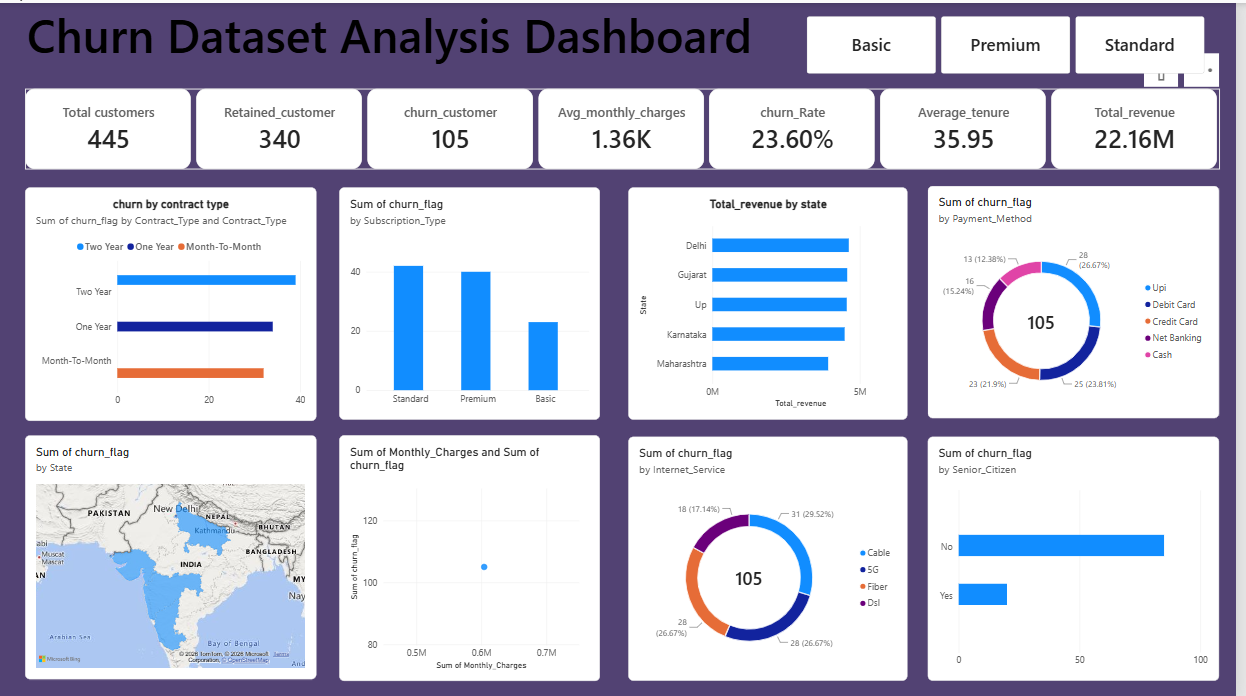

What the dashboard file says about the page in this screenshot:
{"tool":"powerbi","page":{"name":"Page 1","canvas":[1920,1080],"ordinal":0},"visuals":[{"type":"cardVisual","fields":{"Data":["Measure.Total customers","Measure.Retained_customer","Measure.churn_customer","Measure.Average_monthly_charges","Measure.churn_Rate","Measure.Average_tenure","Measure.Total_revenue"]},"box":[42.3,131.7,1851.2,125.7],"z":0},{"type":"textbox","box":[23.5,0,1170.8,131.7],"z":1000},{"type":"clusteredBarChart","title":"churn by contract type","fields":{"Series":["clean_churn_data.Contract_Type"],"Y":["Sum(clean_churn_data.churn_flag)"],"Category":["clean_churn_data.Contract_Type"]},"box":[42.3,286.8,451.4,362],"z":2000},{"type":"columnChart","fields":{"Category":["clean_churn_data.Subscription_Type"],"Y":["Sum(clean_churn_data.churn_flag)"]},"box":[531.3,286.8,404.3,359.7],"z":3000},{"type":"filledMap","fields":{"Category":["clean_churn_data.State"]},"box":[42.3,670,451.4,378.5],"z":3001},{"type":"scatterChart","fields":{"Y":["Sum(clean_churn_data.churn_flag)"],"X":["Sum(clean_churn_data.Monthly_Charges)"]},"box":[531.3,670,404.4,380.9],"z":3002},{"type":"barChart","title":"Total_revenue by state","fields":{"Category":["clean_churn_data.State"],"Y":["Measure.Total_revenue"]},"box":[978,286.8,432.6,359.7],"z":3003},{"type":"donutChart","fields":{"Category":["clean_churn_data.Internet_Service"],"Y":["Sum(clean_churn_data.churn_flag)"]},"box":[978,672.4,432.6,378.5],"z":3004},{"type":"donutChart","fields":{"Y":["Sum(clean_churn_data.churn_flag)"],"Category":["clean_churn_data.Payment_Method"]},"box":[1441.1,284.5,451.4,359.7],"z":3005},{"type":"barChart","fields":{"Category":["clean_churn_data.Senior_Citizen"],"Y":["Sum(clean_churn_data.churn_flag)"]},"box":[1441.1,672.4,451.4,378.5],"z":3006},{"type":"advancedSlicerVisual","fields":{"Values":["clean_churn_data.Subscription_Type"]},"box":[1255.4,21.2,618.3,89.3],"z":3007}]}

Visuals, with their boxes in screenshot pixels (x1, y1, x2, y2), scaled from the page's 1920x1080 canvas onto the 1246x696 screenshot:
cardVisual - Measure.Total customers x Measure.Retained_customer: rect(27, 85, 1229, 166)
textbox: rect(15, 0, 775, 85)
"churn by contract type" clusteredBarChart: rect(27, 185, 320, 418)
columnChart - clean_churn_data.Subscription_Type x Sum(clean_churn_data.churn_flag): rect(345, 185, 607, 417)
filledMap - clean_churn_data.State: rect(27, 432, 320, 676)
scatterChart - Sum(clean_churn_data.churn_flag) x Sum(clean_churn_data.Monthly_Charges): rect(345, 432, 607, 677)
"Total_revenue by state" barChart: rect(635, 185, 915, 417)
donutChart - clean_churn_data.Internet_Service x Sum(clean_churn_data.churn_flag): rect(635, 433, 915, 677)
donutChart - Sum(clean_churn_data.churn_flag) x clean_churn_data.Payment_Method: rect(935, 183, 1228, 415)
barChart - clean_churn_data.Senior_Citizen x Sum(clean_churn_data.churn_flag): rect(935, 433, 1228, 677)
advancedSlicerVisual - clean_churn_data.Subscription_Type: rect(815, 14, 1216, 71)
